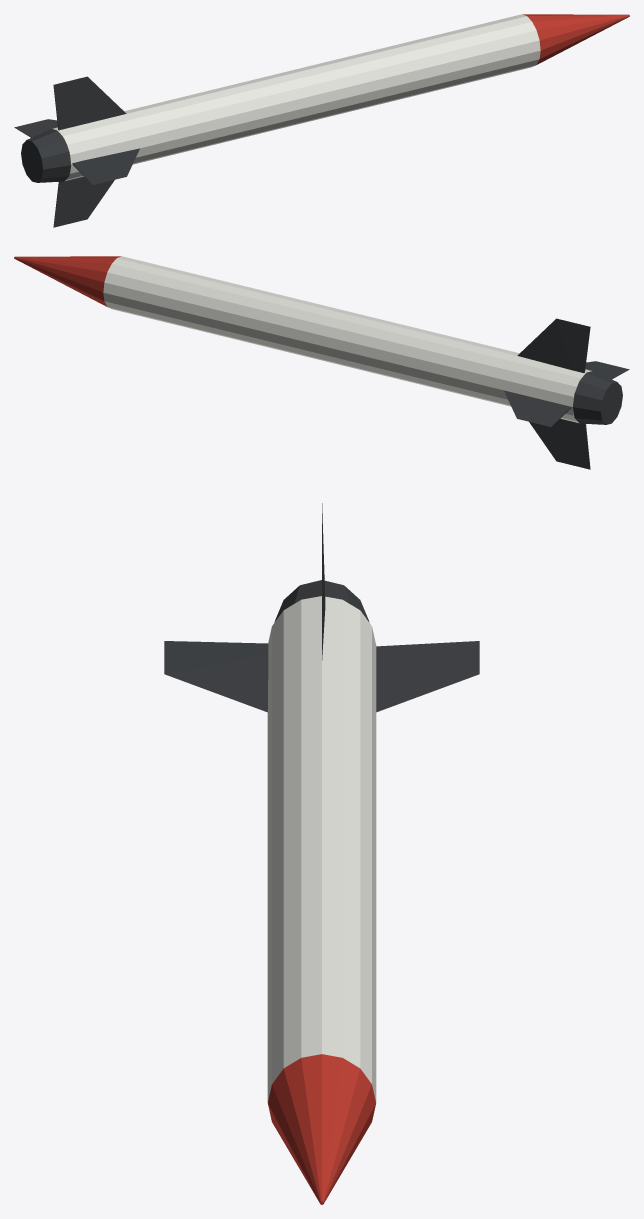
The model's file is missile.glb.
The picture shows the model from 3 angles, top to bottom: view 1: azimuth 30°, elevation 25°; view 2: azimuth 150°, elevation 25°; view 3: azimuth 270°, elevation 25°; orthographic projection. The views are drawn at different scales.
Visible parts, largest first — view 1: Missile; view 2: Missile; view 3: Missile.
Part boxes in pixels (x1,y1,x2,y2): Missile: [14, 14, 629, 227]; Missile: [14, 256, 629, 469]; Missile: [164, 503, 479, 1204].
Size of the model in its own units: 14 by 3.2 by 3.2.
